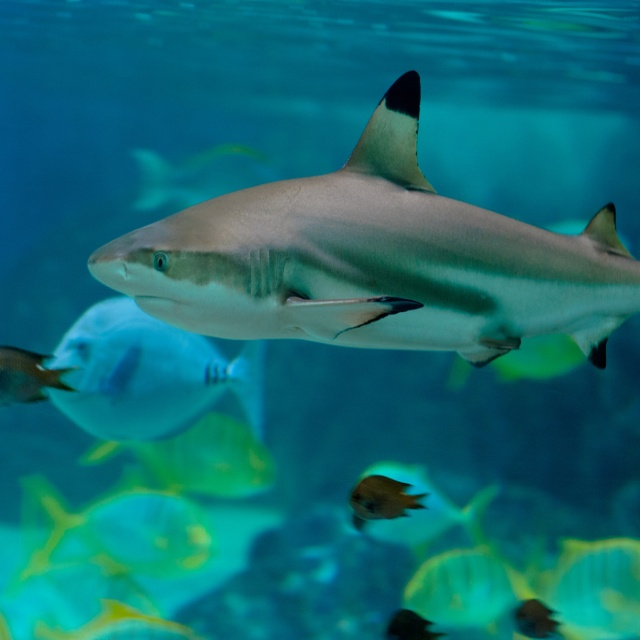Shark: (86, 75, 640, 371)
